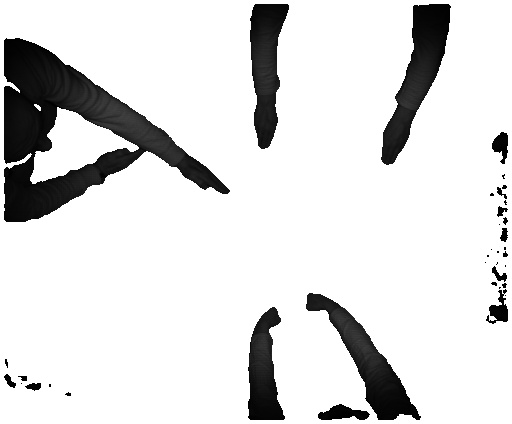fist: (304, 288, 330, 314), (260, 304, 287, 329)
hand: (376, 116, 414, 167), (248, 103, 279, 151)
spine: (99, 150, 149, 191), (182, 159, 231, 199)
